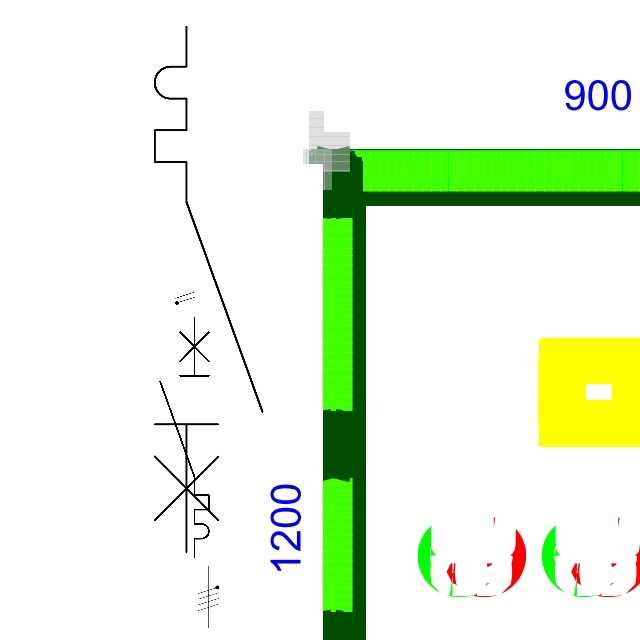interruptor_termomagnetico: (141, 13, 276, 565), (154, 311, 215, 563)
